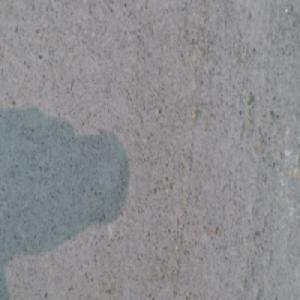Washer: (108, 286, 130, 300)
